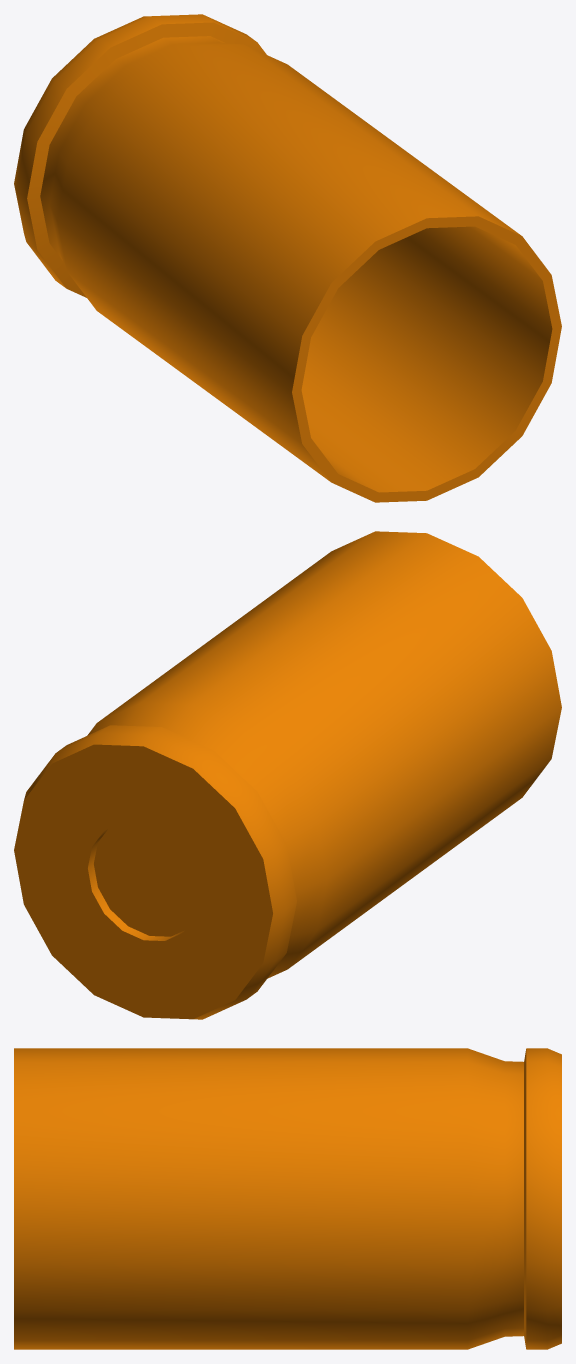
The model's file is bullet-9mm-empty.fbx.
The picture shows the model from 3 angles, top to bottom: view 1: azimuth 30°, elevation 25°; view 2: azimuth 150°, elevation 25°; view 3: azimuth 270°, elevation 25°; orthographic projection. The views are drawn at different scales.
Parts seen in each view (by area): view 1: Bullet 9mm Empty; view 2: Bullet 9mm Empty; view 3: Bullet 9mm Empty.
Boxes of the visible parts, bbox=[...] form: Bullet 9mm Empty: bbox=[14, 14, 561, 502]; Bullet 9mm Empty: bbox=[14, 531, 561, 1019]; Bullet 9mm Empty: bbox=[14, 1048, 561, 1349].
Size of the model in its own units: 0.95 by 0.95 by 1.73.
